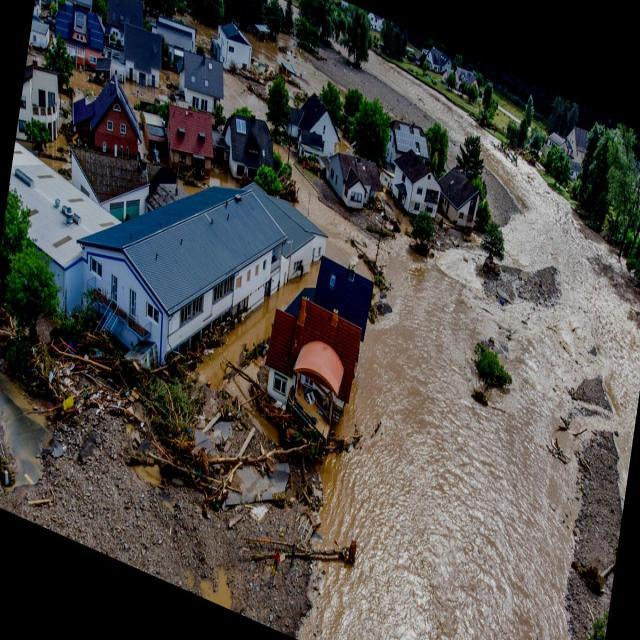flood: (302, 222, 640, 639)
